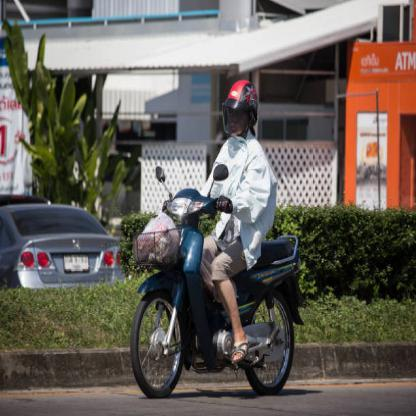Motorcycle: (120, 175, 306, 402)
